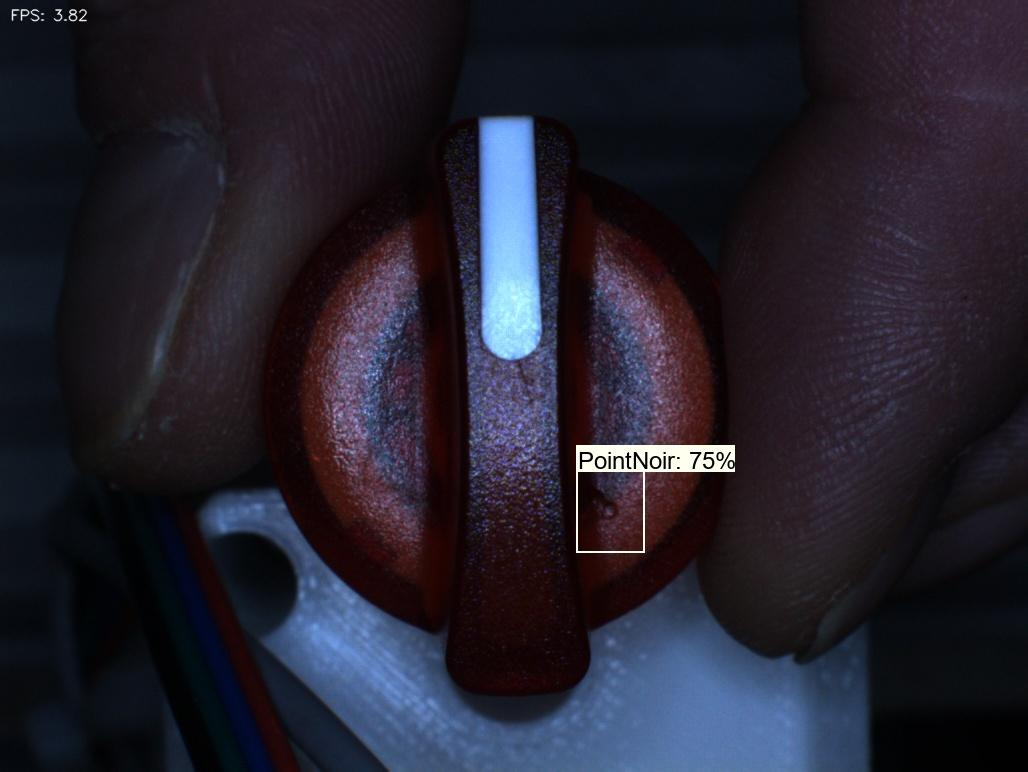Choc: (576, 474, 639, 543)
